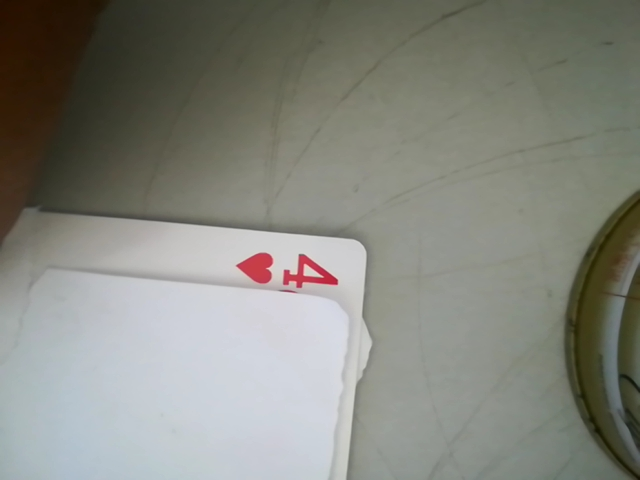hx 4: (232, 242, 357, 298)
